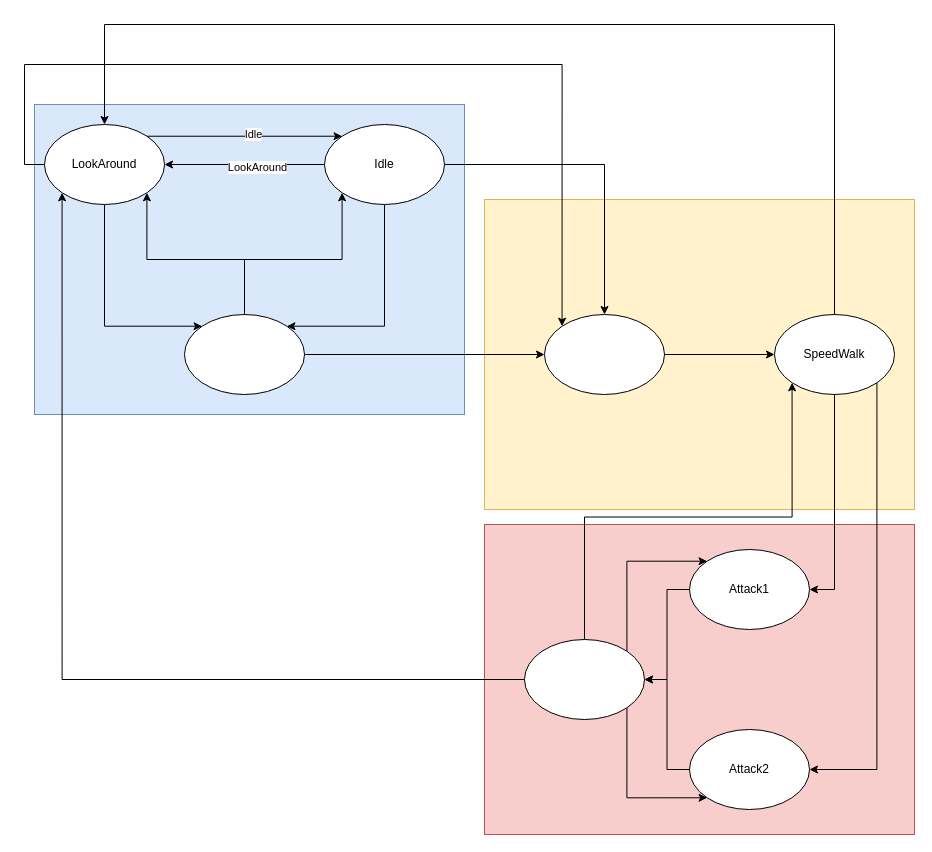
Image size: 932x852. Some labels were removed from this diagram. The centre of each missing label's shape, as x and y in pixels:
"Agony" goes at [584,679].
"Alert" goes at [604,354].
"Walk" goes at [244,354].
